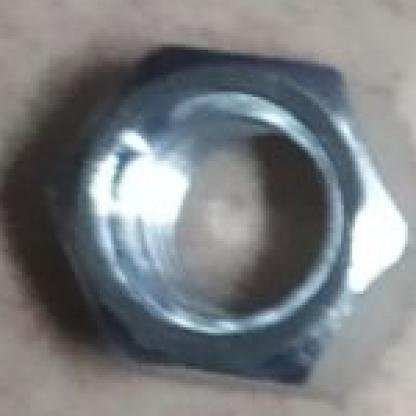FOD: (14, 38, 408, 396)
